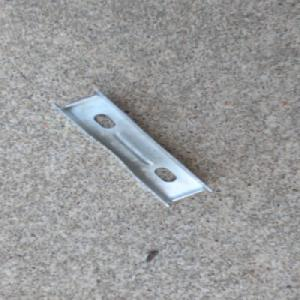ClampPart: (51, 88, 211, 206)
